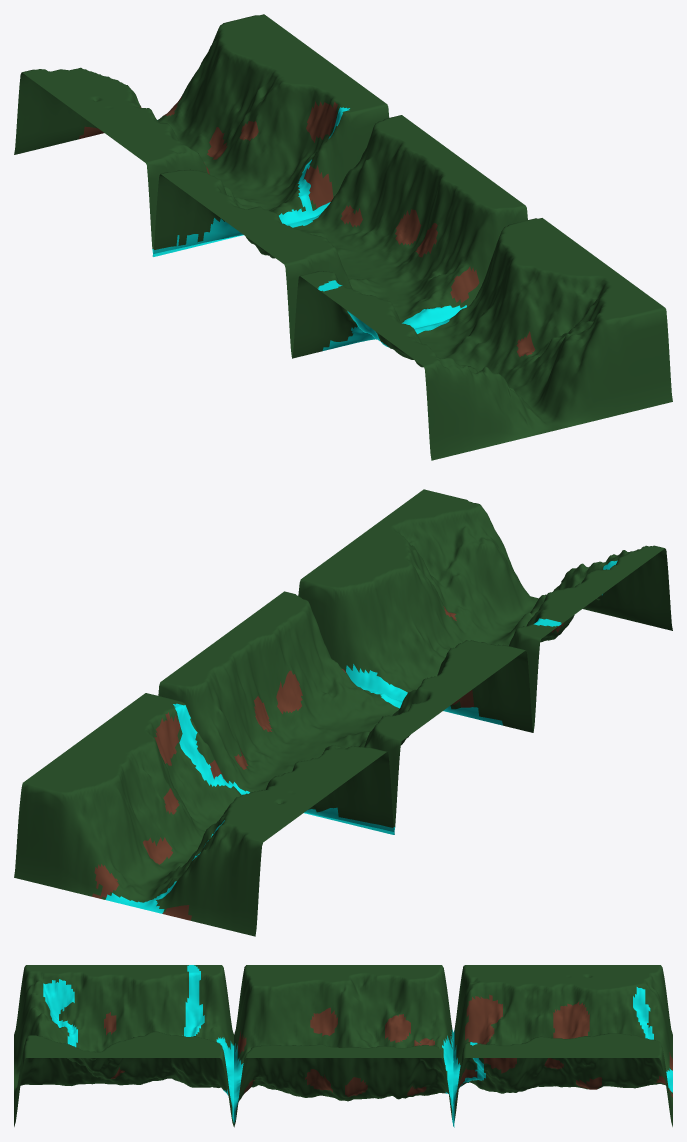
File: hill.fbx
3 views of the same model, one above another, from view 1: azimuth 30°, elevation 25°; view 2: azimuth 150°, elevation 25°; view 3: azimuth 270°, elevation 25° (orthographic). The views are drawn at different scales.
Visible parts, largest first — view 1: Landscape.002; view 2: Landscape.002; view 3: Landscape.002.
Boxes of the visible parts, x1=… form: Landscape.002: x1=14, y1=14, x2=672, y2=460; Landscape.002: x1=14, y1=489, x2=672, y2=936; Landscape.002: x1=14, y1=965, x2=672, y2=1127.
Size of the model in its own units: 1600 by 560 by 4791.
